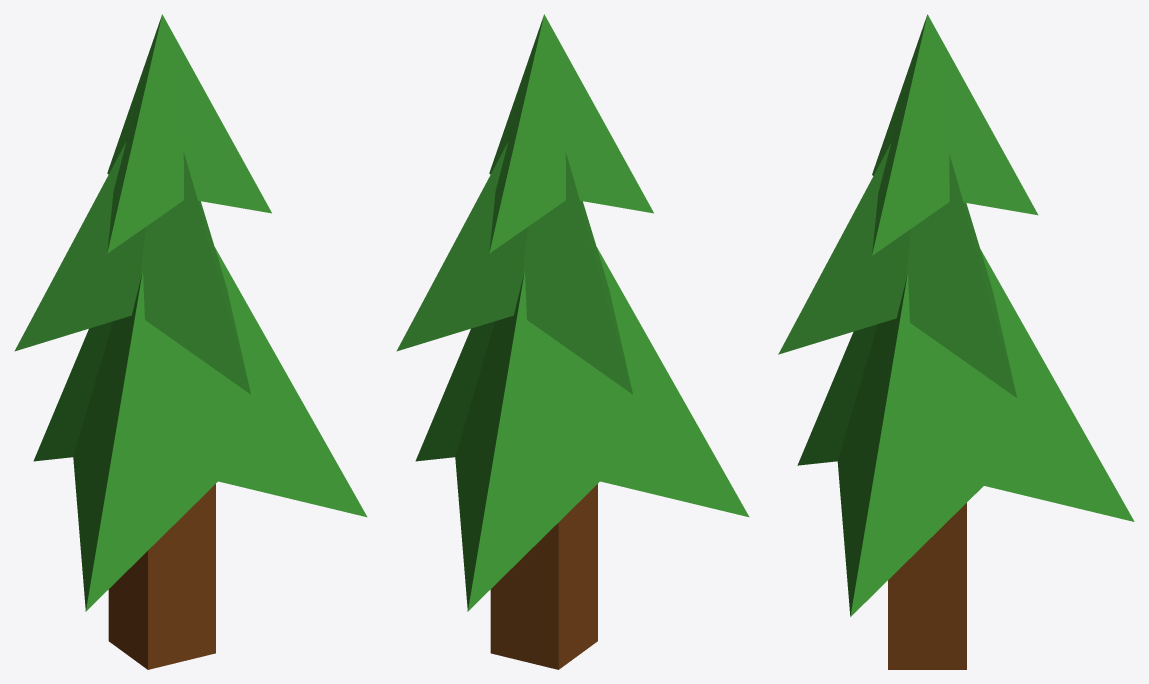
Rendered from choinka.fbx.
3 views of the same model, side by side, from view 1: azimuth 30°, elevation 25°; view 2: azimuth 150°, elevation 25°; view 3: azimuth 270°, elevation 25° (orthographic).
Parts seen in each view (by area): view 1: tree 1; view 2: tree 1; view 3: tree 1.
Part boxes in pixels (box(x1,y1,x2,y2)): tree 1: box(14, 14, 367, 669); tree 1: box(396, 14, 749, 669); tree 1: box(778, 14, 1134, 669).
Size of the model in its own units: 323 by 635 by 321.
